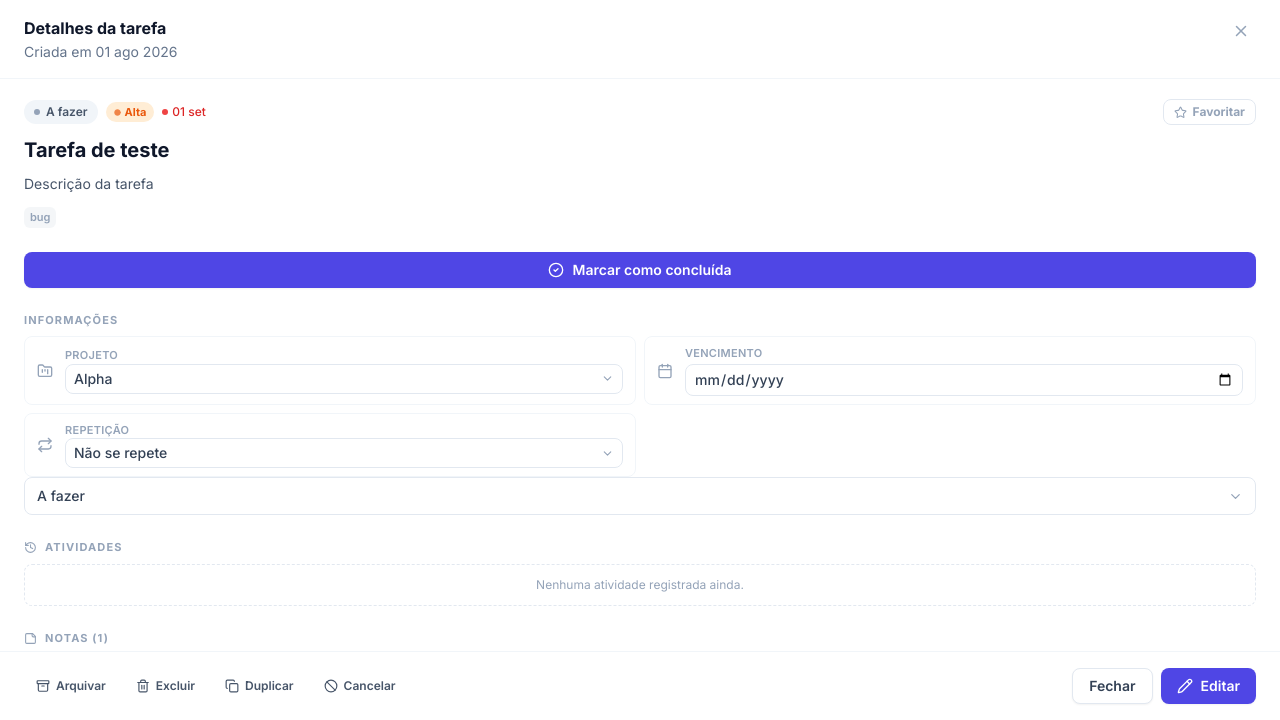
Test: TaskDetailDrawer – delete flow › opens ConfirmDialog when delete button is clicked
Click the button "Excluir": (165, 686) left=124, top=670, right=207, bottom=702
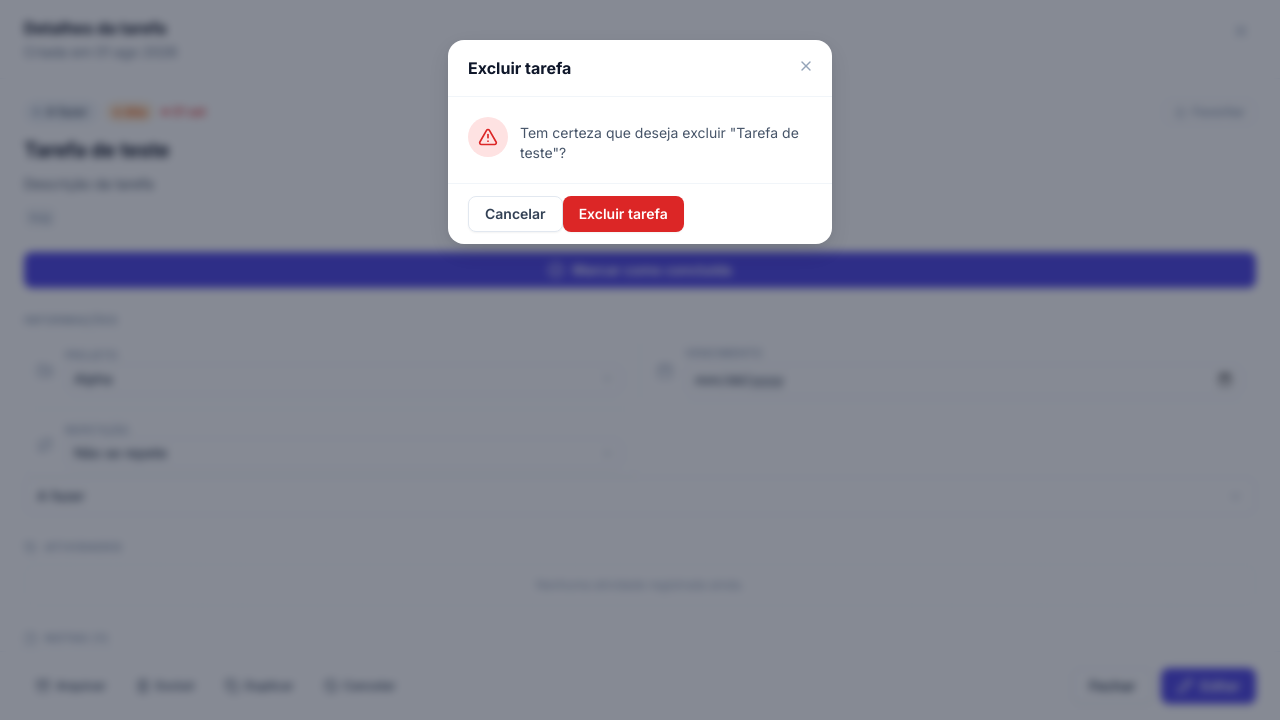
Now the text "Tem certeza que deseja excluir \"Tarefa de teste\"?" is shown, box left=520, top=117, right=812, bottom=163
